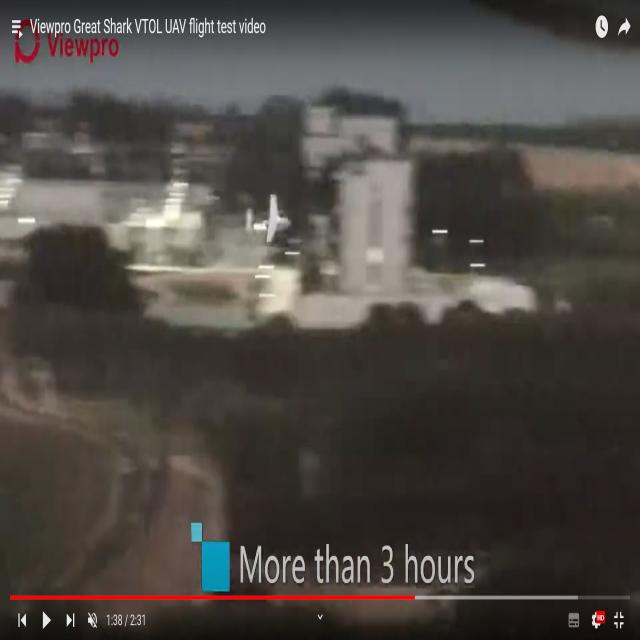iha: (239, 192, 285, 243)
